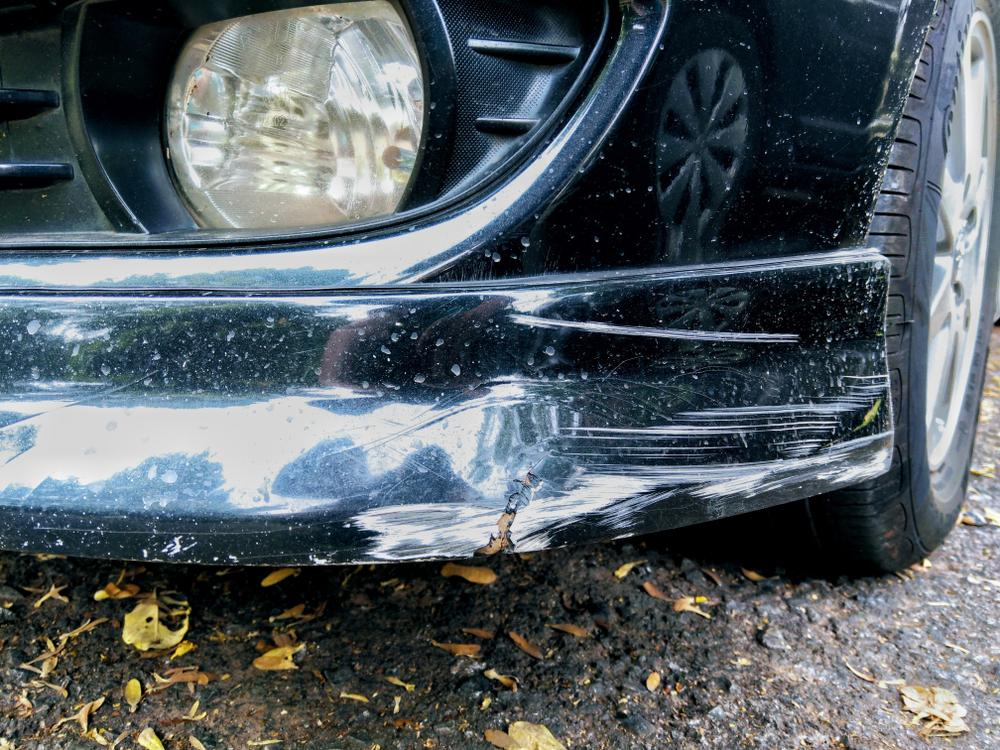crack: (480, 465, 537, 557)
scratch: (344, 366, 900, 564), (506, 308, 803, 345)
